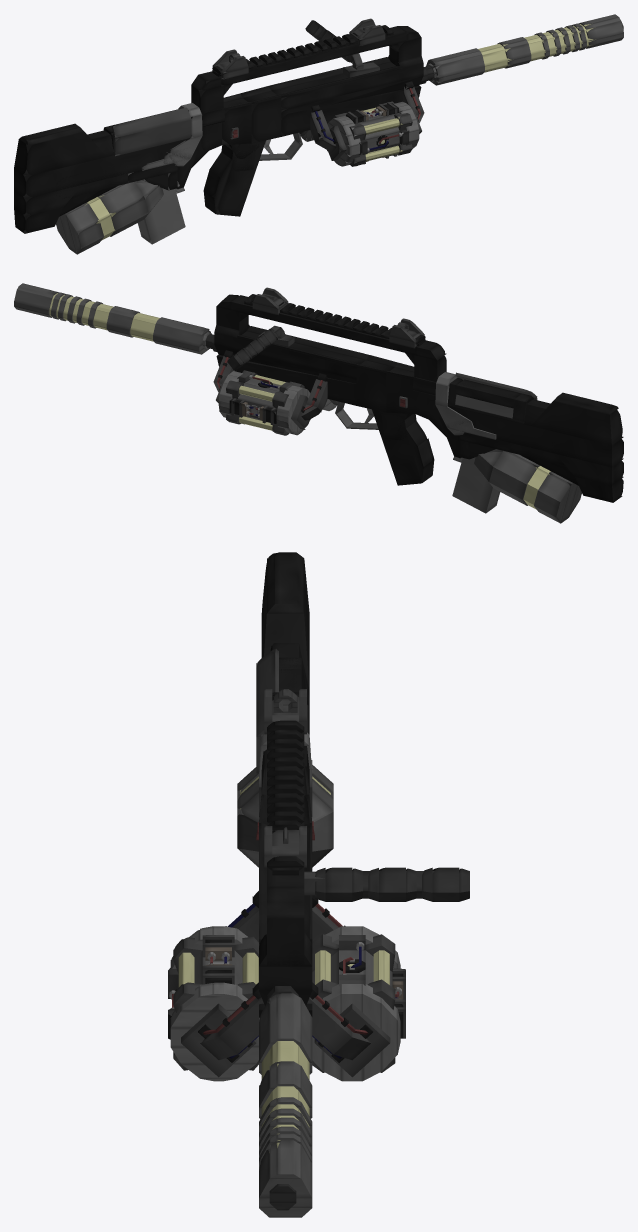
Rendered from famasi.obj.
3 renders of one model, top to bottom at view 1: azimuth 30°, elevation 25°; view 2: azimuth 150°, elevation 25°; view 3: azimuth 270°, elevation 25°, orthographic. The views are drawn at different scales.
Visible parts, largest first — view 1: gunModel14, gunModel15, gunModel0, gunModel66, gunModel1, ammoModel9, gunModel6, ammoModel5, gunModel31, gunModel3, ammoModel0, gunModel4 (+31 smaller); view 2: gunModel14, gunModel15, gunModel0, gunModel66, gunModel1, ammoModel9, ammoModel4, gunModel6, gunModel3, ammoModel2, gunModel4, gunModel26 (+34 smaller); view 3: gunModel16, gunModel15, gunModel69, defaultBarrelModel12, gunModel132, gunModel296, gunModel426, gunModel262, defaultBarrelModel17, gunModel0, gunModel32, gunModel70 (+10 smaller).
Boxes of the visible parts, x1,y1,x2,y2 form: gunModel14: (14,138,190,198); gunModel15: (14,132,106,176); gunModel0: (271,62,423,110); gunModel66: (221,26,406,86); gunModel1: (281,89,404,136); ammoModel9: (128,172,185,244); gunModel6: (206,136,265,216); ammoModel5: (100,182,148,236); gunModel31: (114,119,191,156); gunModel3: (243,91,281,143); ammoModel0: (66,203,103,254); gunModel4: (222,98,251,145); gunModel14: (447,406,623,467); gunModel15: (531,401,623,445); gunModel0: (214,331,365,379); gunModel66: (231,295,417,355); gunModel1: (235,361,356,405); ammoModel9: (452,449,503,513); ammoModel4: (489,451,537,505); gunModel6: (372,409,431,485); gunModel3: (356,360,394,412); ammoModel2: (534,474,571,523); gunModel4: (386,367,415,414); gunModel26: (556,454,623,485); gunModel16: (267,552,304,613); gunModel15: (261,560,309,690); gunModel69: (267,918,304,966); defaultBarrelModel12: (269,993,301,1043); gunModel132: (181,1003,256,1077); gunModel296: (314,1003,390,1077); gunModel426: (307,995,352,1054); gunModel262: (218,995,263,1054); defaultBarrelModel17: (259,1146,312,1198); gunModel0: (259,828,312,990); gunModel32: (256,648,278,739); gunModel70: (267,886,304,918).
Bounding box in the file's own units: 25.9 × 6.8 × 5.65.
